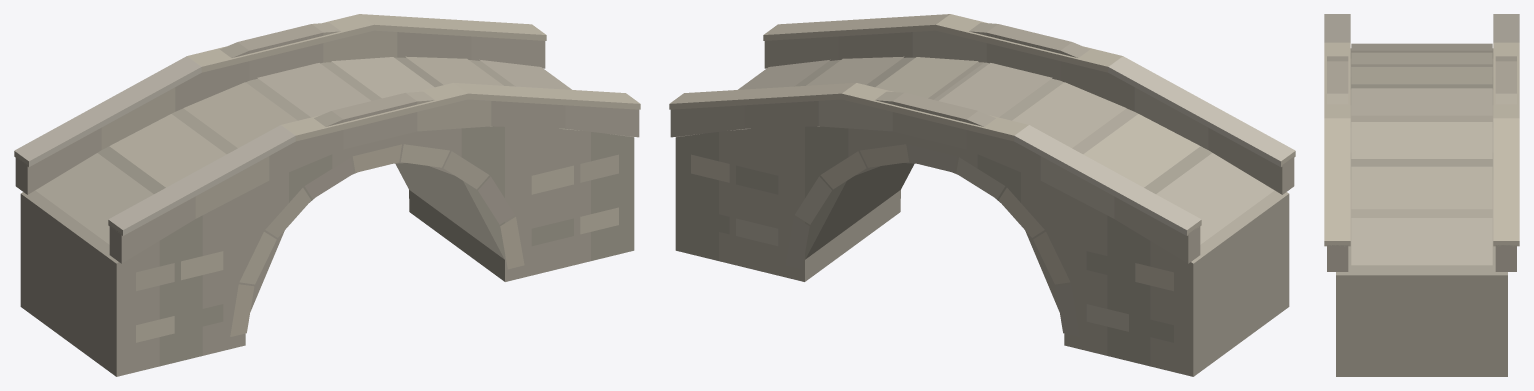
3 renders of one model, left to right at view 1: azimuth 30°, elevation 25°; view 2: azimuth 150°, elevation 25°; view 3: azimuth 270°, elevation 25°, orthographic. The views are drawn at different scales.
Parts seen in each view (by area): view 1: world; view 2: world; view 3: world.
Boxes of the visible parts, box(x1,y1,x2,y2) form: world: box(14, 14, 640, 376); world: box(669, 14, 1295, 376); world: box(1324, 14, 1519, 376).
Bounding box in the file's own units: 8.3 × 3.17 × 3.02.
